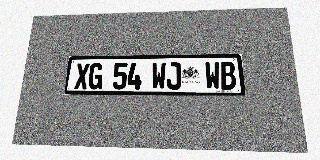4: (127, 63, 142, 89)
5: (113, 63, 128, 89)
B: (220, 62, 237, 89)
G: (88, 63, 103, 89)
J: (166, 62, 181, 89)
W: (204, 62, 221, 89), (151, 62, 166, 89)
X: (74, 63, 90, 89)
